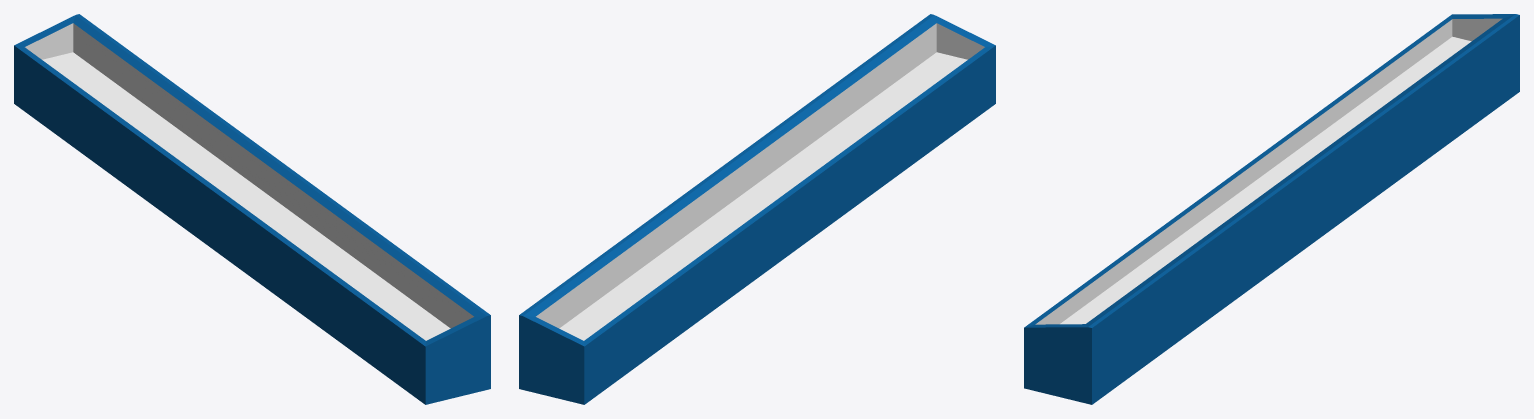
The model's file is shelf.fbx.
3 views of the same model, side by side, from view 1: azimuth 30°, elevation 25°; view 2: azimuth 150°, elevation 25°; view 3: azimuth 330°, elevation 25° (orthographic). The views are drawn at different scales.
Visible parts, largest first — view 1: Cube; view 2: Cube; view 3: Cube.
Boxes of the visible parts, left/top/right/bottom form: Cube: left=14, top=14, right=490, bottom=404; Cube: left=519, top=14, right=995, bottom=404; Cube: left=1024, top=14, right=1519, bottom=404.
Bounding box in the file's own units: 99.1 × 107 × 1080.
